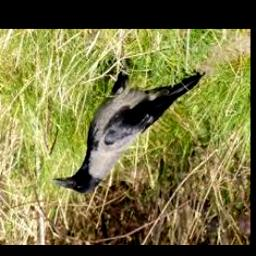Crow: (52, 59, 206, 193)
